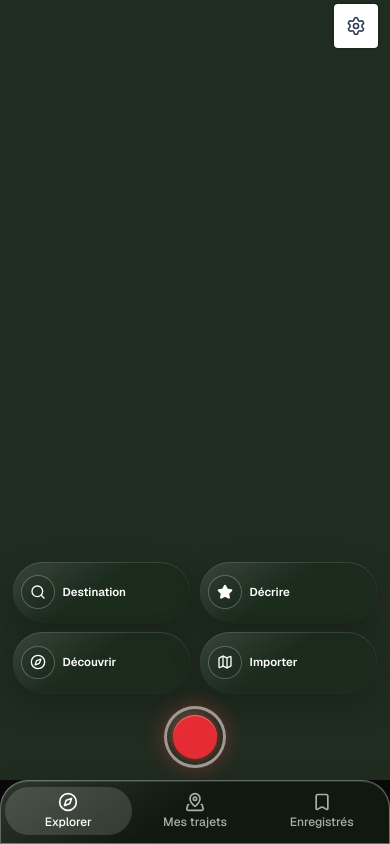
it: RideApp mobile shell (FR-031, FR-035) › opens the destination pane without a visible title or GPS banner (FR-031, FR-038)
Click the button with aria-label "Rechercher une destination".
click(102, 592)  # box x1=12 y1=561 x2=191 y2=623
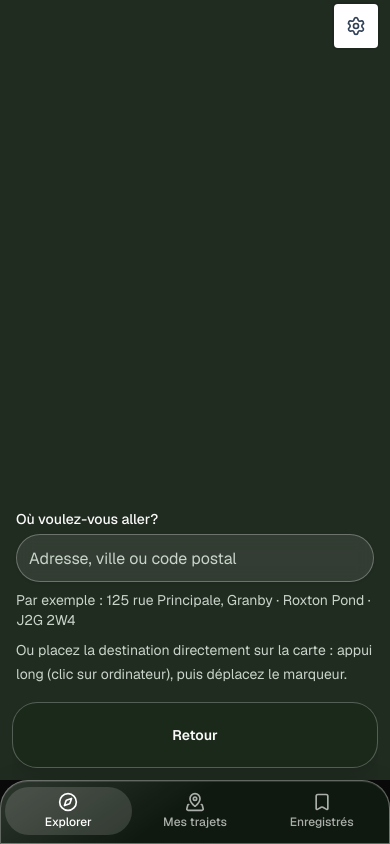
Check: the element named "Trouver une destination" is shown, box x1=12 y1=500 x2=378 y2=780
Check: the dropdown labelled "Où voulez-vous aller?" is enabled, box x1=16 y1=534 x2=374 y2=582
